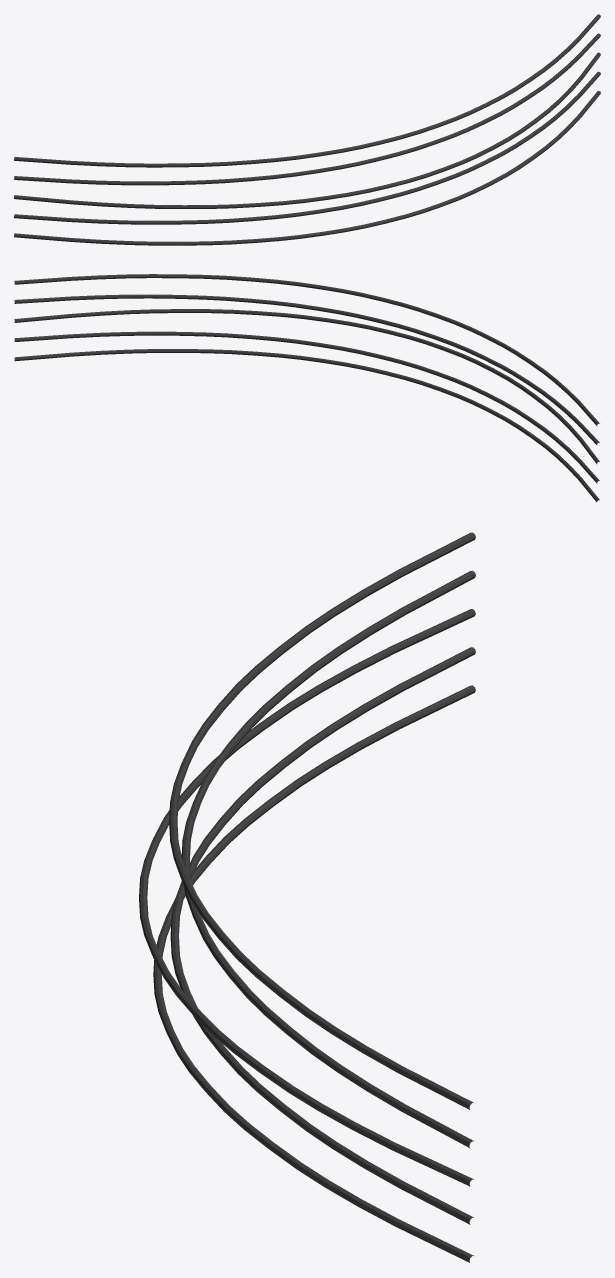
3 views of the same model, one above another, from view 1: azimuth 30°, elevation 25°; view 2: azimuth 150°, elevation 25°; view 3: azimuth 270°, elevation 25° (orthographic). The views are drawn at different scales.
Visible parts, largest first — view 1: world; view 2: world; view 3: world.
Part boxes in pixels (<box>): world: <box>14,14,600,245</box>; world: <box>14,274,599,502</box>; world: <box>139,532,475,1262</box>.
Bounding box in the file's own units: 64.26 × 8.4 × 15.98.
Materials: 1 (1 with a texture image).
